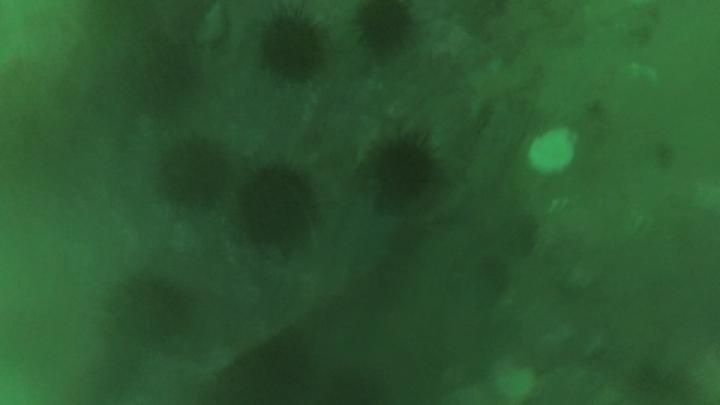echinus: (236, 164, 319, 249), (110, 271, 194, 346), (127, 35, 201, 114), (156, 136, 233, 209), (255, 11, 329, 84), (367, 133, 440, 207), (622, 358, 703, 404), (352, 1, 417, 56)
scallop: (524, 124, 581, 178)
starfish: (460, 56, 540, 127)
